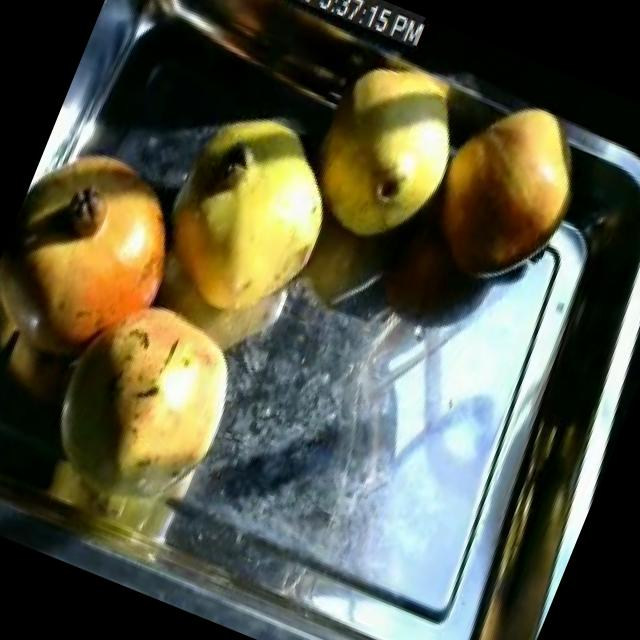fruit: (13, 260, 281, 558), (117, 78, 382, 366), (0, 112, 231, 426), (404, 75, 620, 324), (278, 35, 487, 272)
